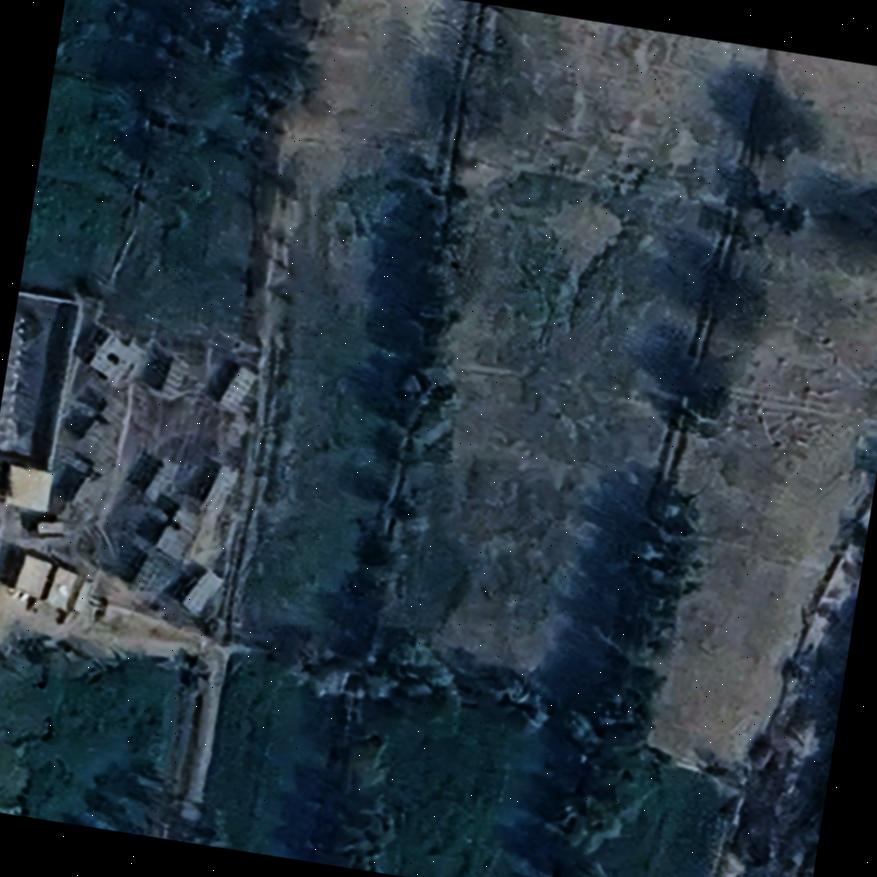Solarpanel: (85, 326, 143, 388), (153, 500, 208, 564), (197, 460, 243, 520), (177, 564, 226, 619), (215, 358, 261, 415), (142, 452, 182, 506), (157, 351, 193, 401)
